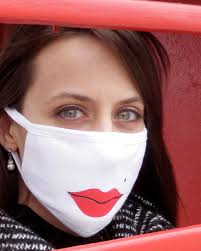mask: (19, 29, 149, 228)
